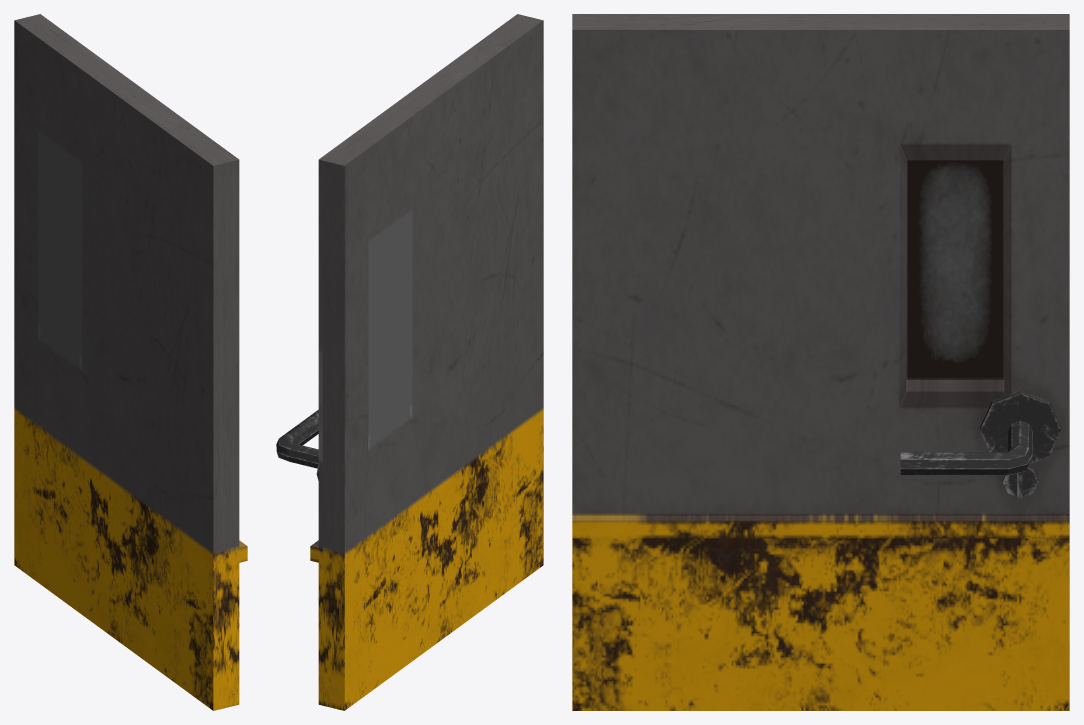
File: medicalDoor.gltf
3 views of the same model, side by side, from view 1: azimuth 30°, elevation 25°; view 2: azimuth 150°, elevation 25°; view 3: azimuth 270°, elevation 25° (orthographic). The views are drawn at different scales.
Parts seen in each view (by area): view 1: handle4; view 2: handle4; view 3: handle4.
Part boxes in pixels (x1,y1,x2,y2): handle4: (14,14,247,710); handle4: (276,14,543,710); handle4: (572,14,1069,710).
Size of the model in its own units: 0.0329 by 0.1846 by 0.1221.
Materials: 1 (1 with a texture image).
